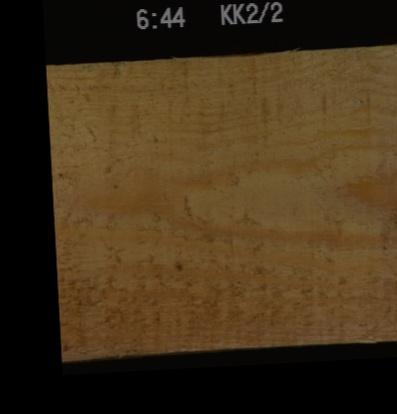small_knot: (172, 259, 182, 271)
